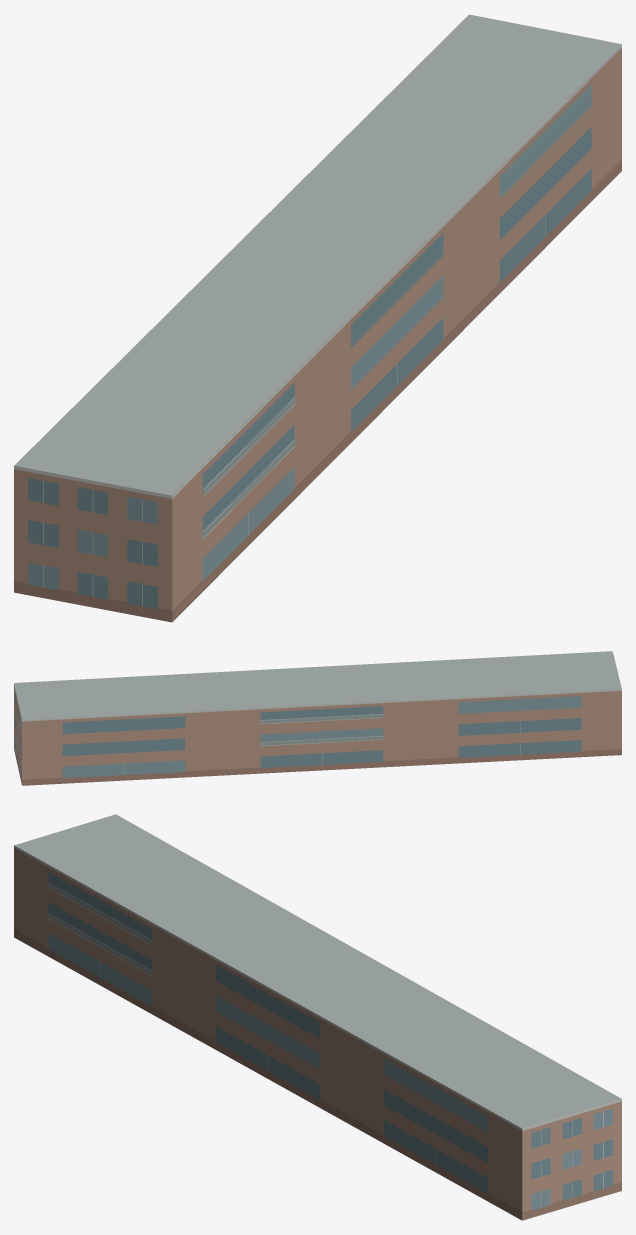
Rendered from survey-upis-32756096.glb.
3 renders of one model, top to bottom at view 1: azimuth 30°, elevation 25°; view 2: azimuth 150°, elevation 25°; view 3: azimuth 270°, elevation 25°, orthographic. The views are drawn at different scales.
Parts seen in each view (by area): view 1: survey-upis-32756096.tmp; view 2: survey-upis-32756096.tmp; view 3: survey-upis-32756096.tmp.
Boxes of the visible parts, x1=… form: survey-upis-32756096.tmp: x1=14, y1=14, x2=621, y2=622; survey-upis-32756096.tmp: x1=14, y1=651, x2=621, y2=785; survey-upis-32756096.tmp: x1=14, y1=814, x2=621, y2=1220.
Bounding box in the file's own units: 67.05 × 9.15 × 54.79.
